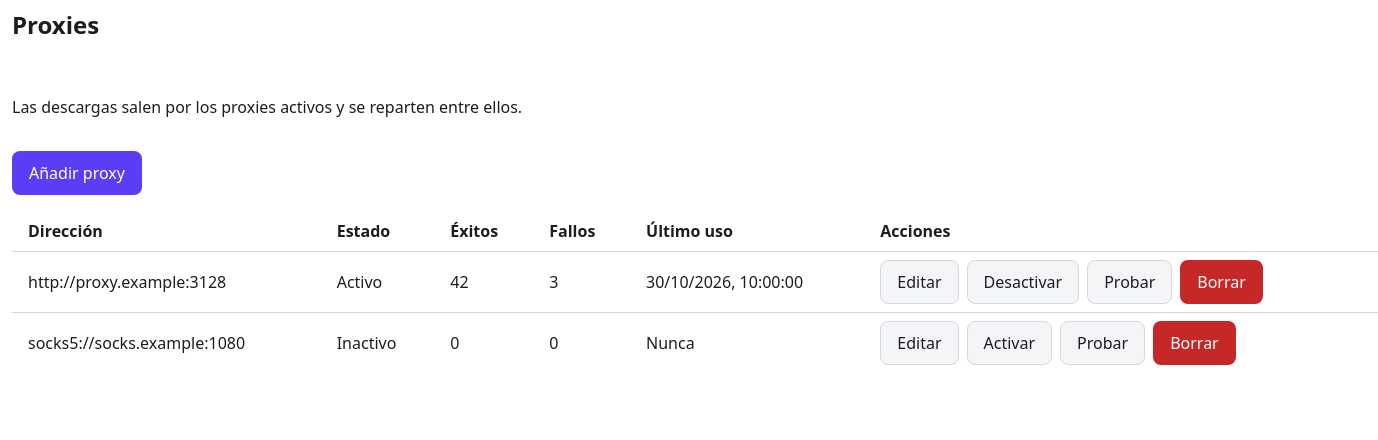
Test: ProxiesView › informa de una prueba de conexión correcta
The image size is (1378, 440).
Click the button "Probar" in the row of "http://proxy.example:3128" at point(1130, 282), box [1087,260,1172,304]
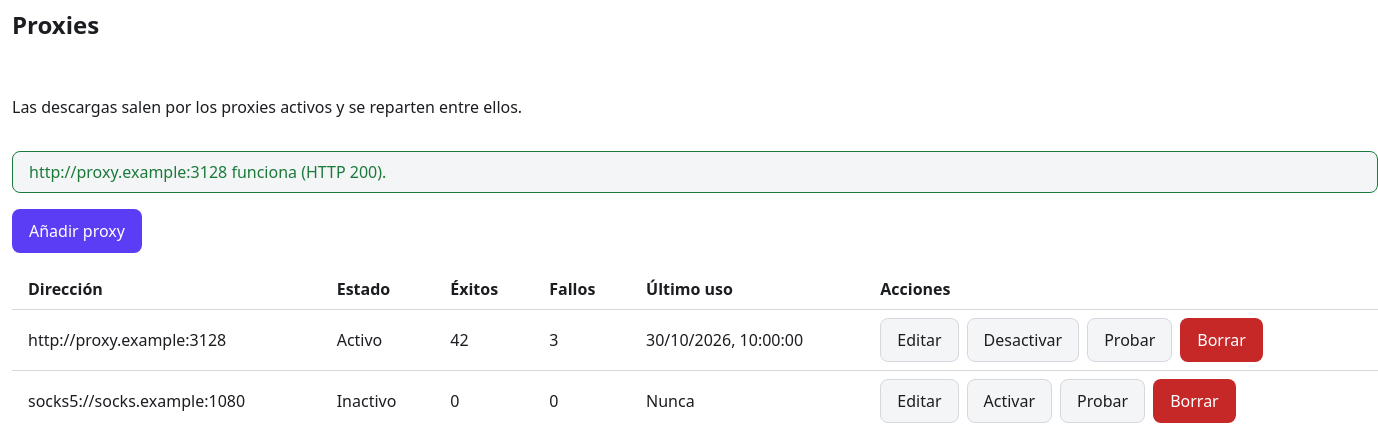
Result: the message "http://proxy.example:3128 funciona (HTTP 200)." is shown at [12,151,1377,193]
